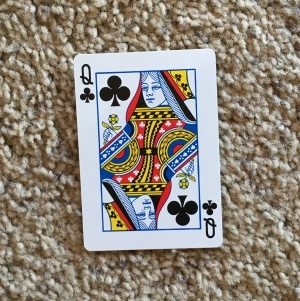card: (74, 47, 226, 254)
